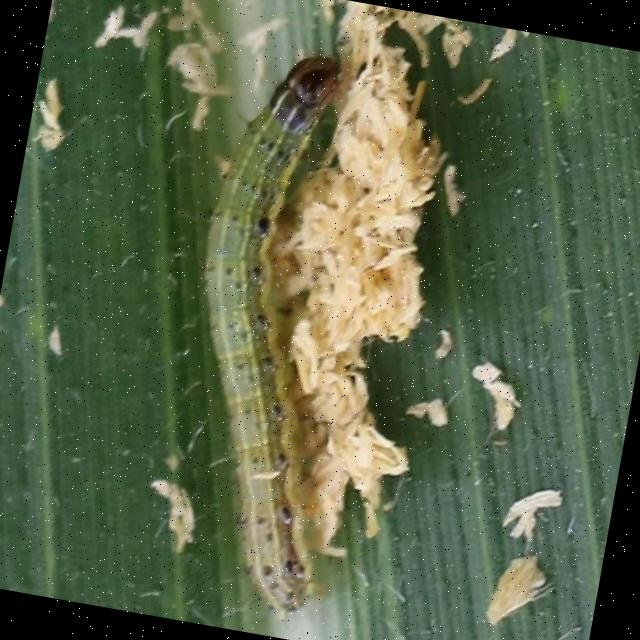worm: (142, 39, 413, 624), (263, 44, 347, 142)
